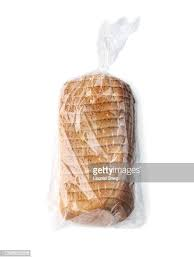bread: (46, 27, 149, 237)
